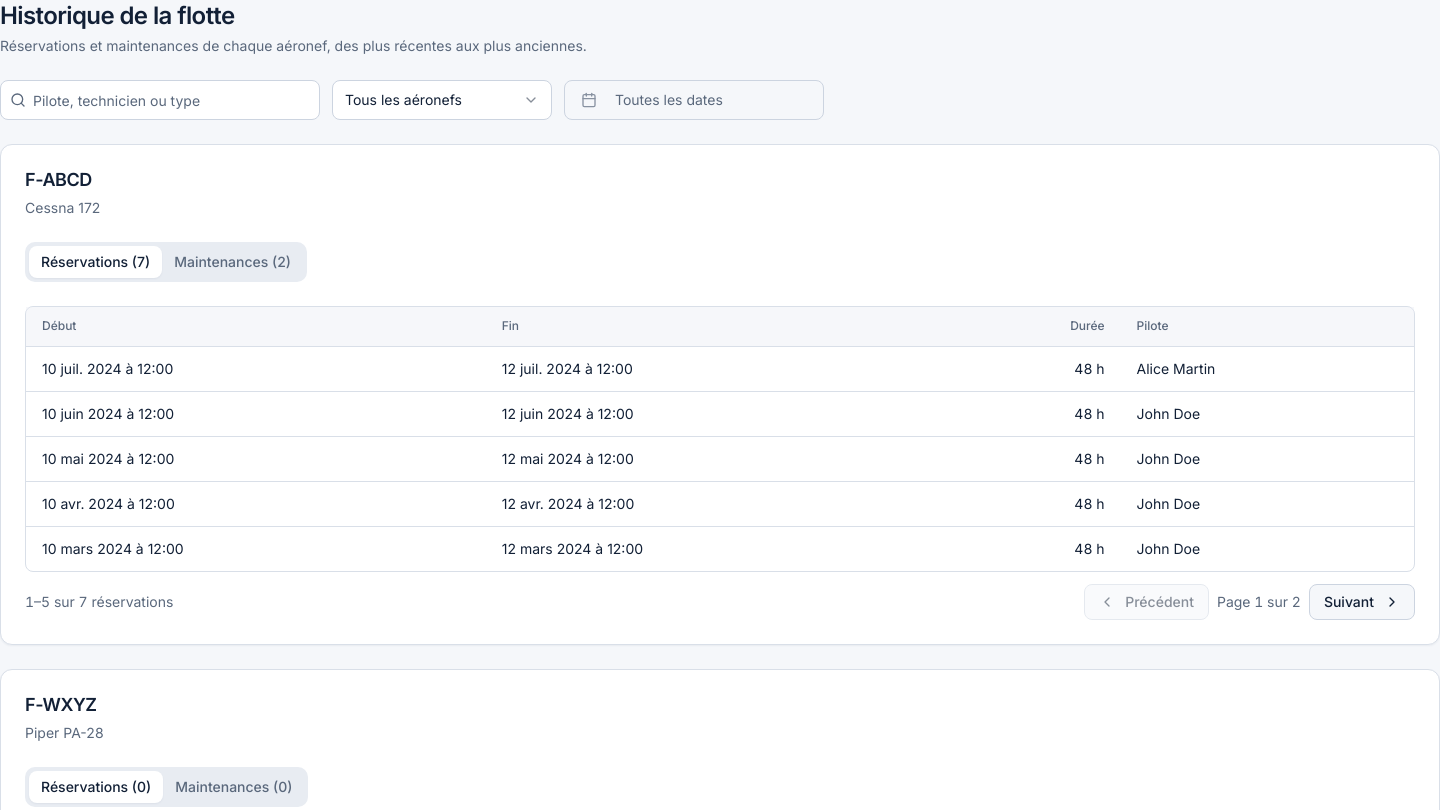
Test case: AircraftHistory Component › doit afficher les maintenances avec leur libellé après avoir ouvert l'onglet Maintenances
The width and height of the screenshot is (1440, 810).
Expected: the text "F-ABCD" is shown, [25,169,92,190]
Expected: the text "Inspection" is not shown
What coordinates should you click on to do the following:
click the tab "Maintenances (2)"
I would click on:
 (233, 262)
Its box is [162,246,303,278].
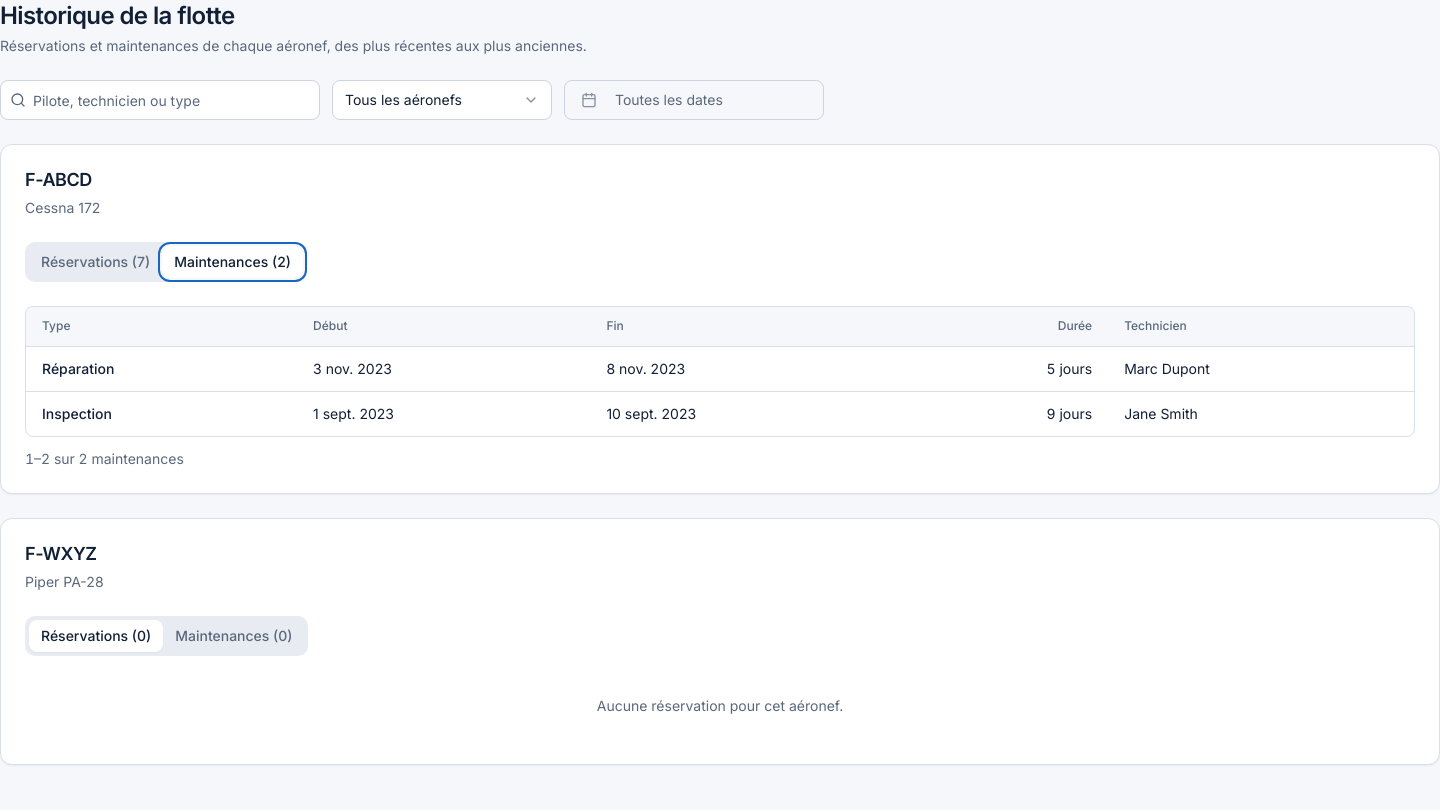
Result: the text "Réparation" is shown at [26,346,297,392]
Result: the text "5 jours" is shown at [907,346,1108,392]
Result: the text "Marc Dupont" is shown at [1108,346,1414,392]
